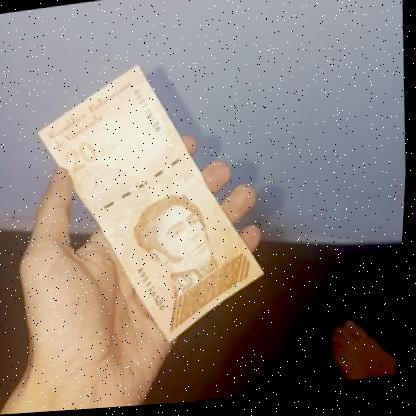twenty-front-vef: (25, 50, 282, 364)
